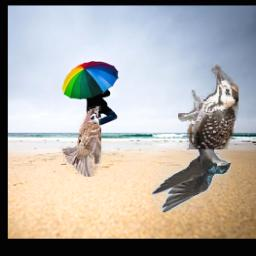Sparrow: (60, 106, 102, 177)
Swallow: (153, 125, 232, 212)
Woodpecker: (178, 66, 238, 150)
